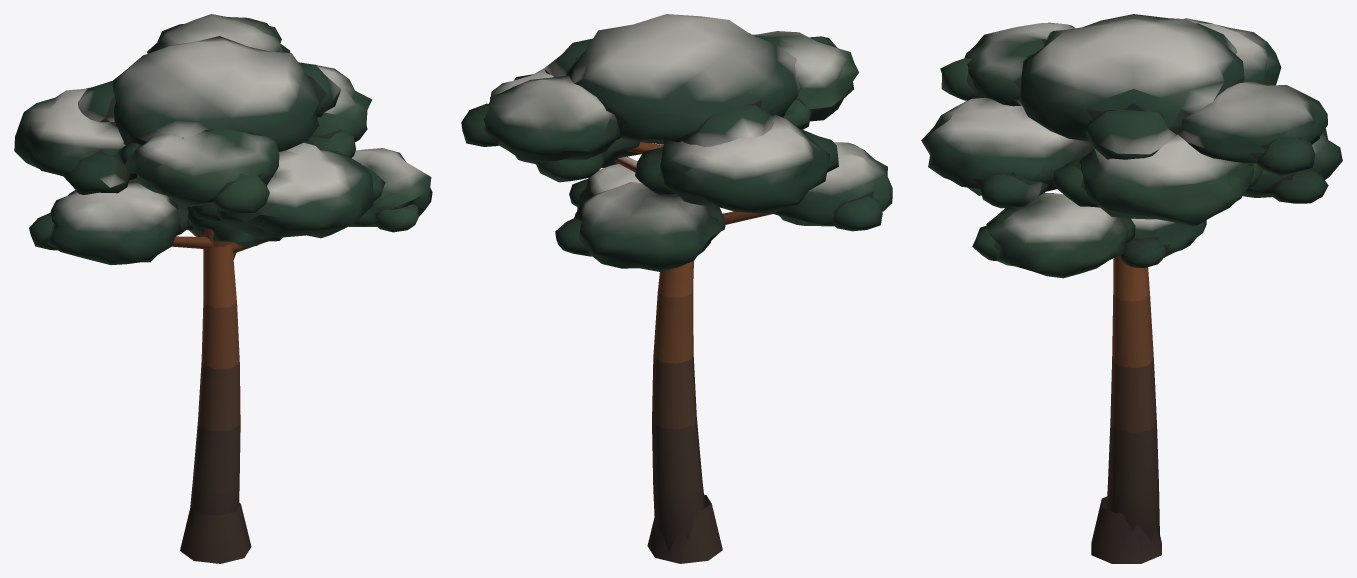
File: pine_tall.glb
3 views of the same model, side by side, from view 1: azimuth 30°, elevation 25°; view 2: azimuth 150°, elevation 25°; view 3: azimuth 270°, elevation 25° (orthographic). The views are drawn at different scales.
Visible parts, largest first — view 1: pine_tall_mesh; view 2: pine_tall_mesh; view 3: pine_tall_mesh.
Part boxes in pixels (x1,y1,x2,y2): pine_tall_mesh: (14,14,432,563); pine_tall_mesh: (461,14,892,563); pine_tall_mesh: (921,14,1342,563).
Size of the model in its own units: 3.07 by 4.02 by 2.98.
